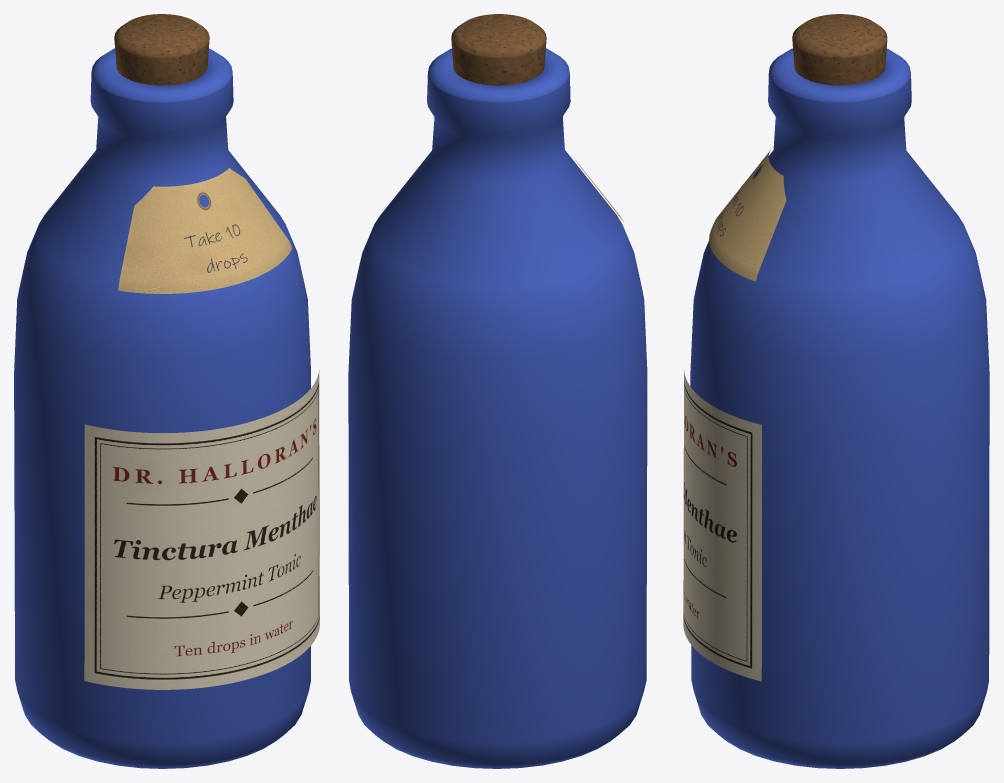
File: v2_apothecary_tonic_medium.glb
3 renders of one model, left to right at view 1: azimuth 30°, elevation 25°; view 2: azimuth 150°, elevation 25°; view 3: azimuth 270°, elevation 25°, orthographic.
Visible parts, largest first — view 1: Glass, Label_front, Label_tag, Cap; view 2: Glass, Cap; view 3: Glass, Label_front, Cap, Label_tag.
Boxes of the visible parts, left/top/right/bottom form: Glass: left=14, top=48, right=310, bottom=768; Label_front: left=84, top=370, right=319, bottom=689; Label_tag: left=118, top=168, right=291, bottom=293; Cap: left=114, top=14, right=209, bottom=85; Glass: left=348, top=48, right=647, bottom=768; Cap: left=451, top=14, right=546, bottom=85; Glass: left=690, top=48, right=989, bottom=768; Label_front: left=683, top=370, right=761, bottom=681; Cap: left=792, top=14, right=887, bottom=85; Label_tag: left=709, top=150, right=786, bottom=281.
Bounding box in the file's own units: 0.0463 × 0.1177 × 0.0476.
5 materials, 3 textured.
